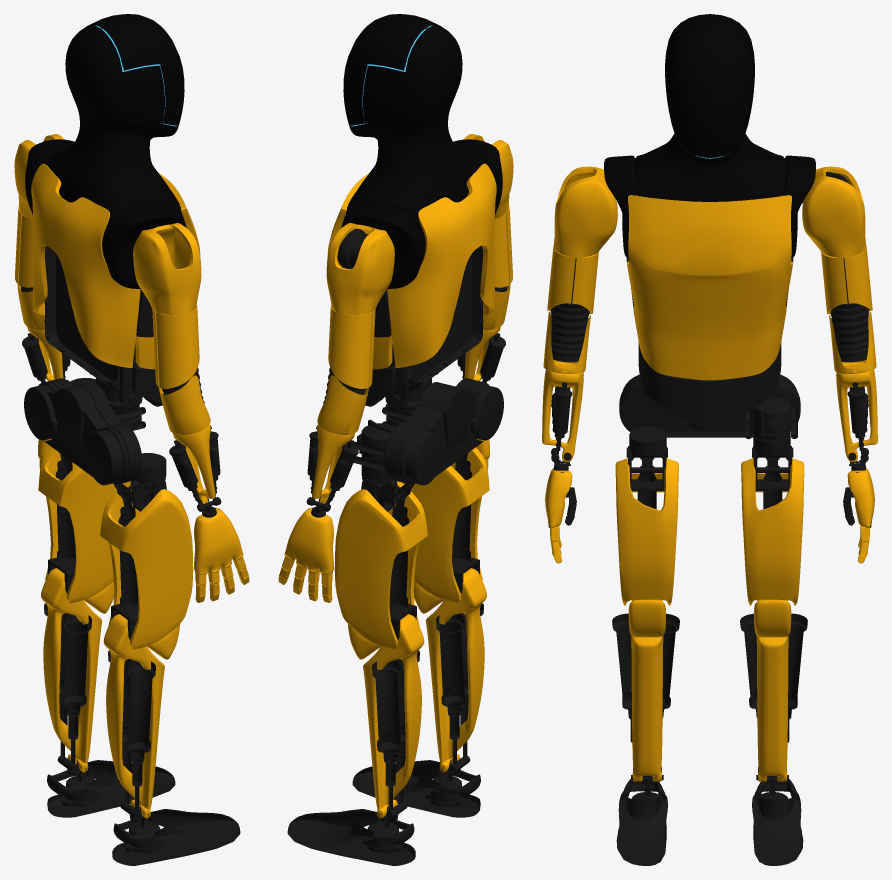
File: design-director.glb
3 renders of one model, left to right at view 1: azimuth 30°, elevation 25°; view 2: azimuth 150°, elevation 25°; view 3: azimuth 270°, elevation 25°, orthographic.
Visible parts, largest first — view 1: Cube.001; view 2: Cube.001; view 3: Cube.001.
Boxes of the visible parts, x1=… form: Cube.001: x1=14, y1=14, x2=249, y2=865; Cube.001: x1=278, y1=14, x2=513, y2=865; Cube.001: x1=542, y1=14, x2=877, y2=865.
Size of the model in its own units: 0.3406 by 1.7 by 0.6396.
